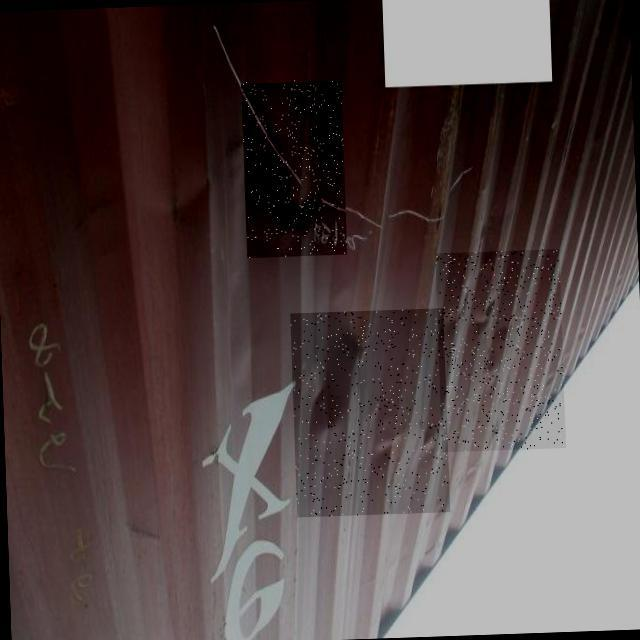Dent: (290, 308, 450, 517)
Minor-Dent: (435, 249, 566, 452), (241, 78, 347, 257)
